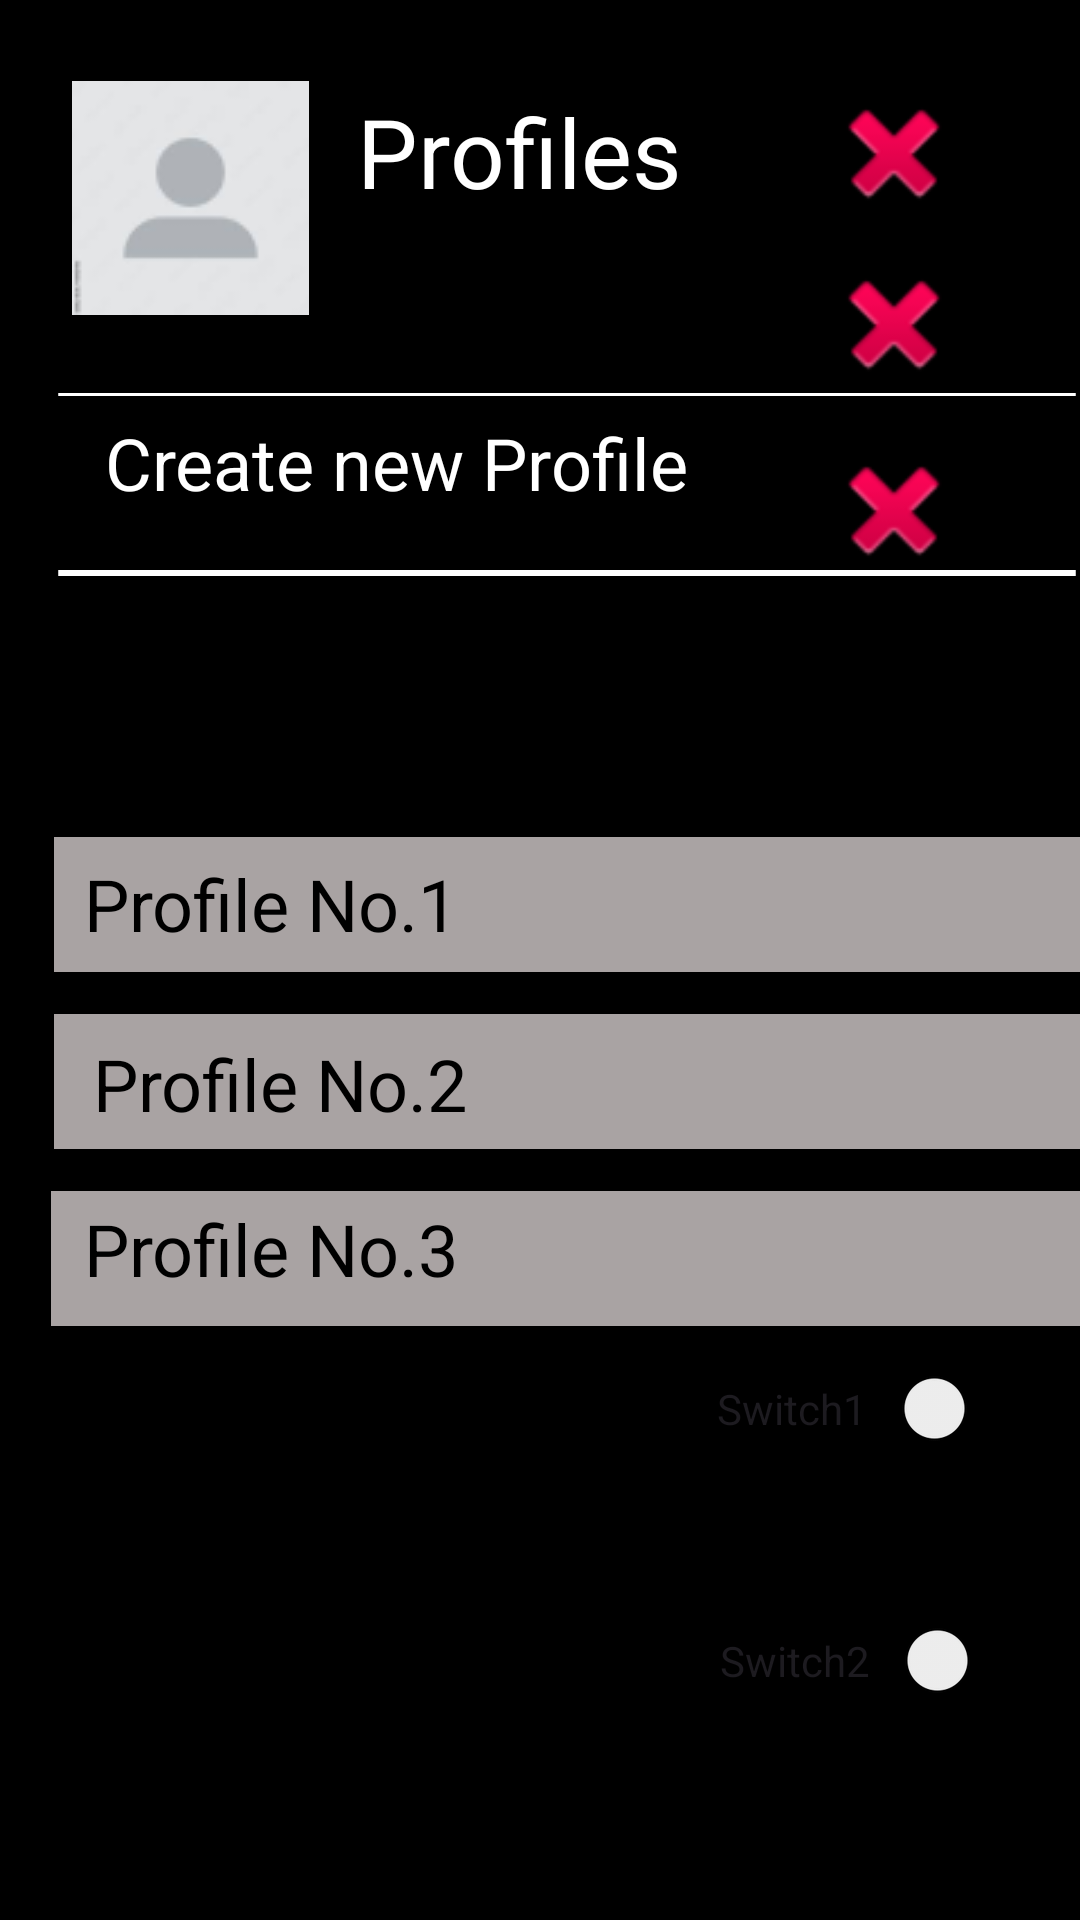

Icons on this 1080×1920 Android screen, each with its box as (x1, y1, x2, y2):
cancle1: (848, 109, 940, 199), (848, 280, 940, 370), (848, 466, 940, 556)
